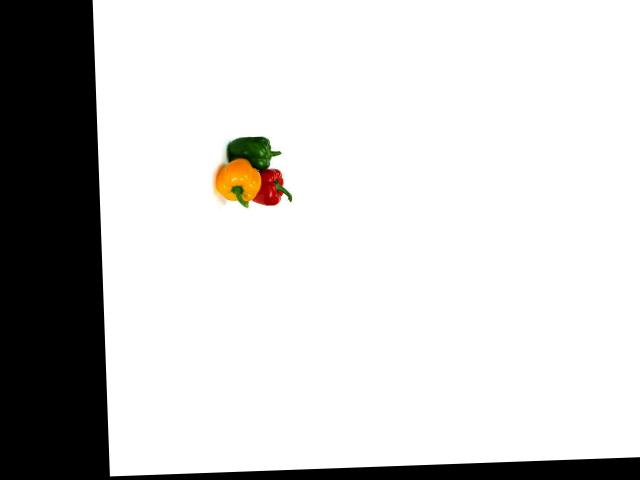bell_pepper: (245, 162, 297, 212)
